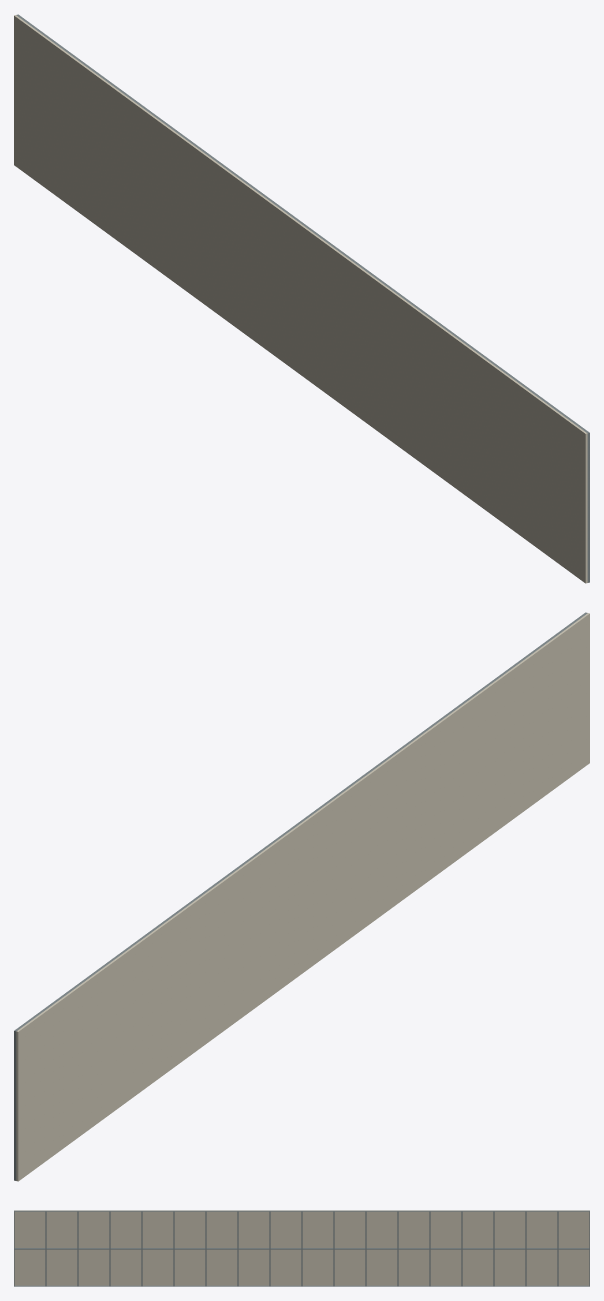
File: AST-HUL-002.glb
3 renders of one model, top to bottom at view 1: azimuth 30°, elevation 25°; view 2: azimuth 150°, elevation 25°; view 3: azimuth 270°, elevation 25°, orthographic. The views are drawn at different scales.
Visible parts, largest first — view 1: HUL2_ContinuousOpaqueSkin; view 2: HUL2_ContinuousOpaqueSkin; view 3: HUL2_ContinuousOpaqueSkin, HUL2_InteriorRib_01, HUL2_InteriorRib_02, HUL2_InteriorRib_03, HUL2_InteriorRib_04, HUL2_InteriorRib_05, HUL2_InteriorRib_06, HUL2_InteriorRib_07, HUL2_InteriorRib_08, HUL2_InteriorRib_09, HUL2_InteriorRib_10, HUL2_InteriorRib_11 (+6 smaller).
Boxes of the visible parts, x1,y1,x2,y2 form: HUL2_ContinuousOpaqueSkin: [14, 15, 587, 583]; HUL2_ContinuousOpaqueSkin: [16, 613, 589, 1181]; HUL2_ContinuousOpaqueSkin: [14, 1210, 589, 1285]; HUL2_InteriorRib_01: [557, 1210, 558, 1286]; HUL2_InteriorRib_02: [525, 1210, 526, 1286]; HUL2_InteriorRib_03: [493, 1210, 494, 1286]; HUL2_InteriorRib_04: [461, 1210, 462, 1286]; HUL2_InteriorRib_05: [429, 1210, 430, 1286]; HUL2_InteriorRib_06: [397, 1210, 398, 1286]; HUL2_InteriorRib_07: [365, 1210, 366, 1286]; HUL2_InteriorRib_08: [333, 1210, 334, 1286]; HUL2_InteriorRib_09: [301, 1210, 302, 1286]; HUL2_InteriorRib_10: [269, 1210, 270, 1286]; HUL2_InteriorRib_11: [237, 1210, 238, 1286].
Bounding box in the file's own units: 0.4 × 13 × 90.
Materials: 2 (2 with a texture image).
